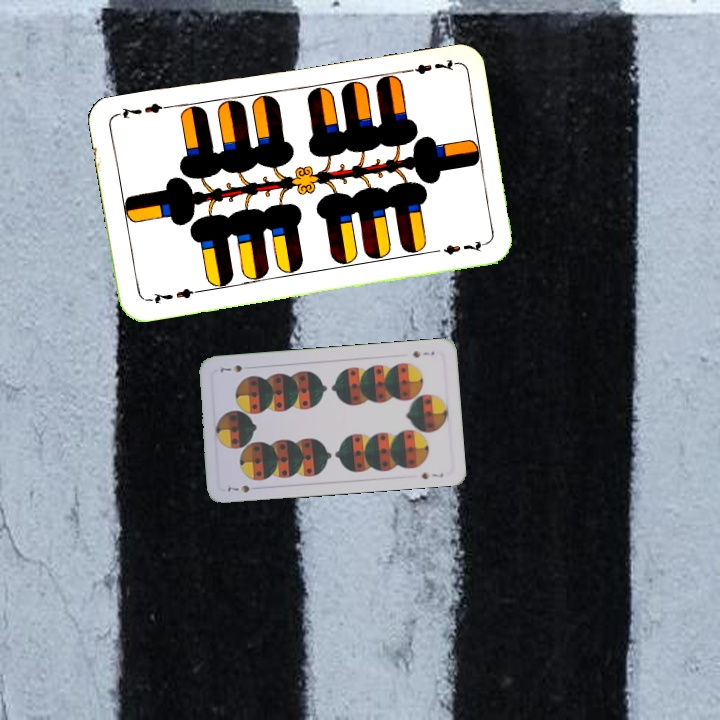E7: (143, 284, 202, 307), (399, 55, 458, 77)
S7: (223, 481, 252, 495), (408, 347, 437, 360)
